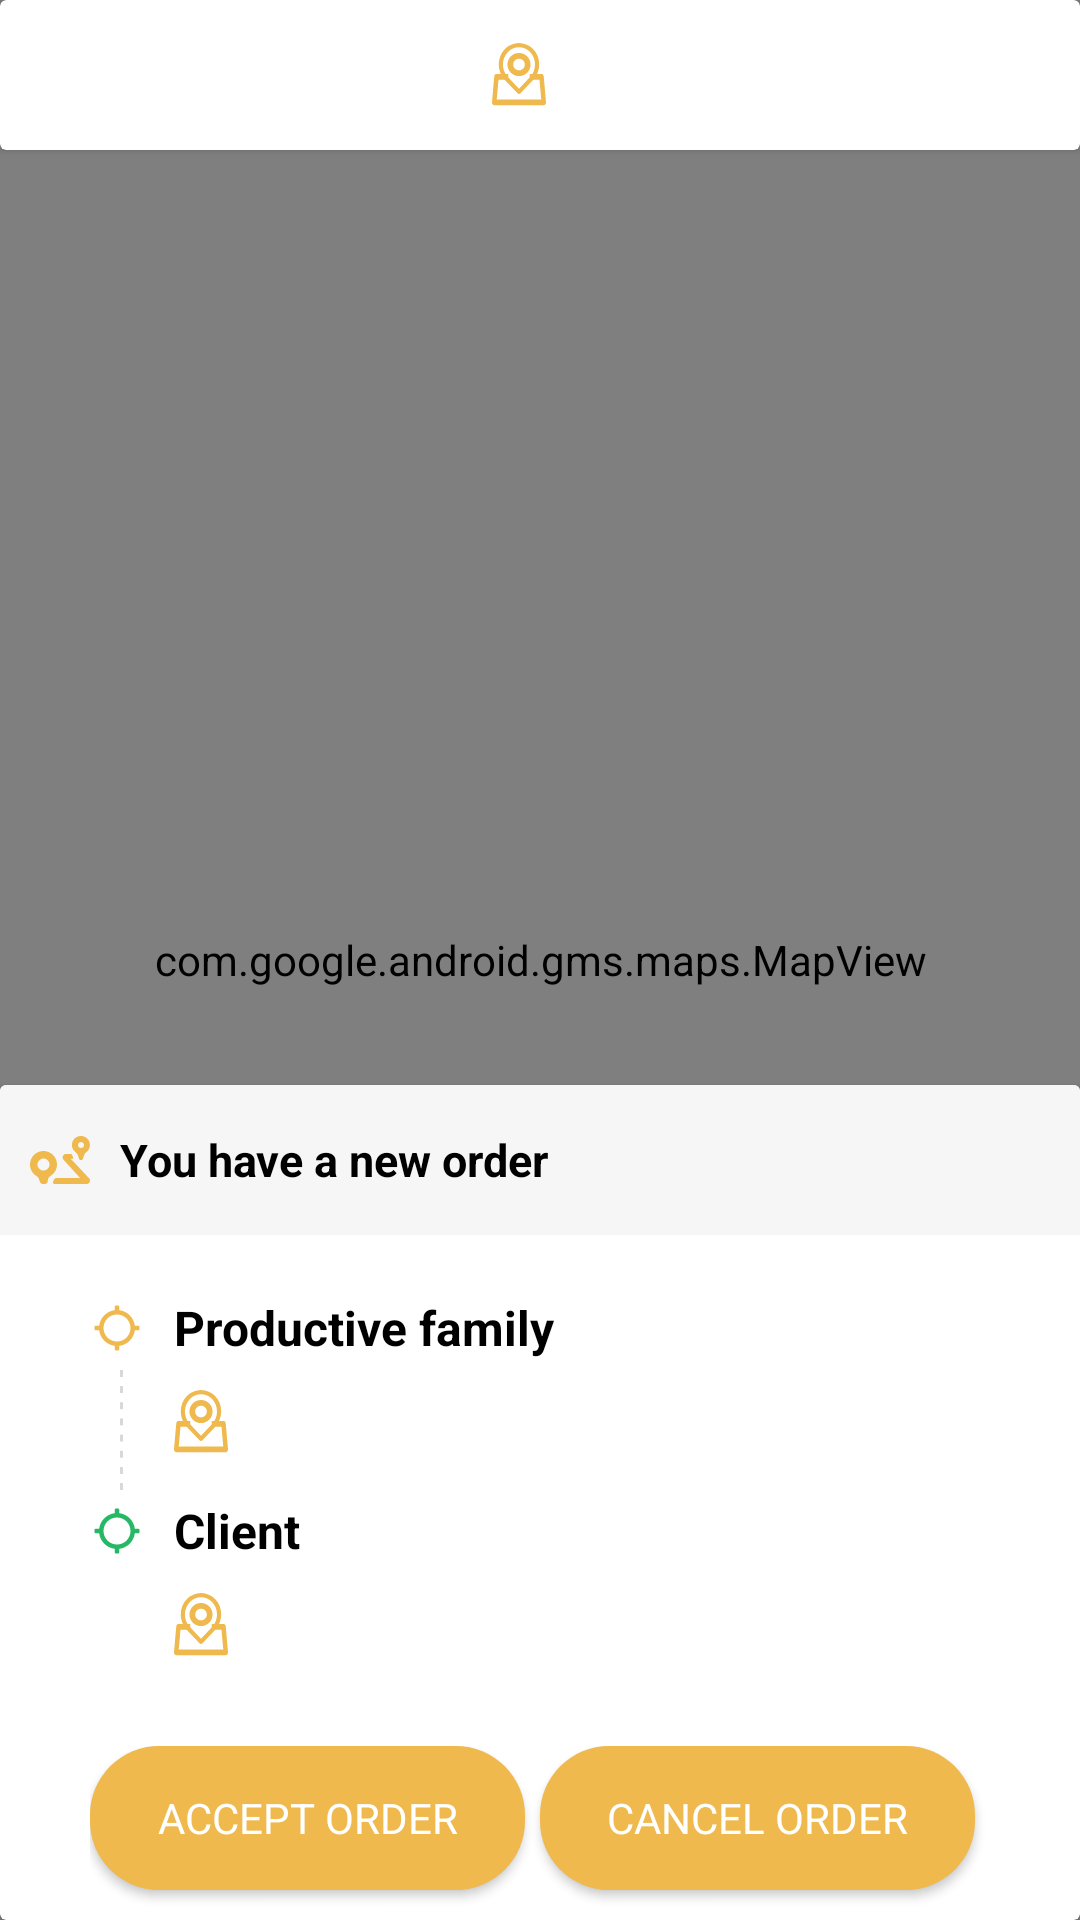

Named icons in this screenshot (1080x1920) and their bounding boxes, (x1, y1, x2, y2):
locate: (492, 43, 546, 106), (174, 1390, 228, 1453), (174, 1593, 228, 1656)
